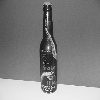beer: (41, 3, 58, 98)
